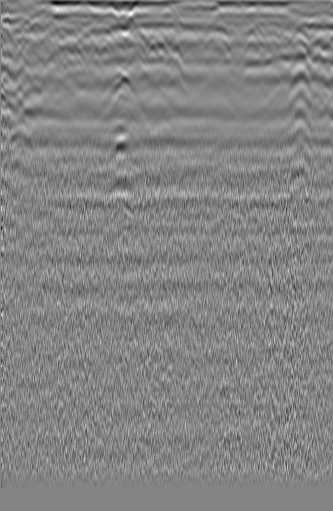가스: (98, 176, 143, 213)
상수: (9, 47, 32, 70)
오수: (285, 42, 314, 70)
우수: (135, 33, 167, 62)
